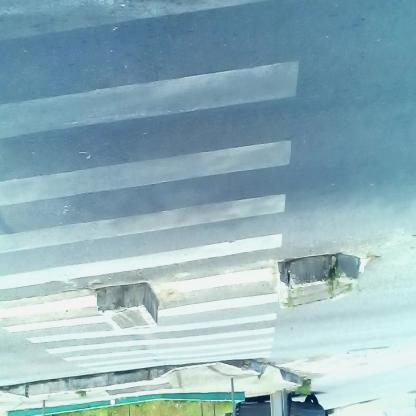crosswalk: (2, 8, 276, 353)
sidewalk: (2, 361, 309, 396)
